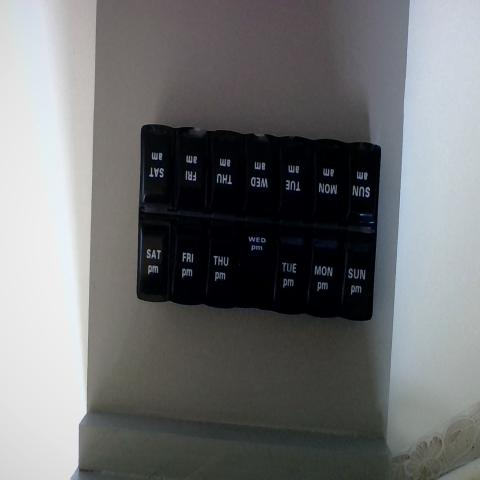FRI-am: (177, 133, 206, 210)
FRI-pm: (168, 215, 202, 302)
MON-am: (308, 140, 343, 221)
MON-pm: (298, 232, 334, 316)
Open: (240, 240, 268, 310)
PillBox: (127, 109, 385, 360)
SAT-am: (140, 127, 175, 209)
SAT-pm: (134, 221, 166, 298)
SUN-am: (344, 140, 376, 226)
SUN-pm: (336, 233, 370, 316)
THU-am: (208, 130, 241, 212)
THU-pm: (203, 224, 239, 302)
TUE-am: (276, 138, 307, 218)
TUE-pm: (268, 231, 300, 311)
WED-am: (243, 135, 275, 218)
